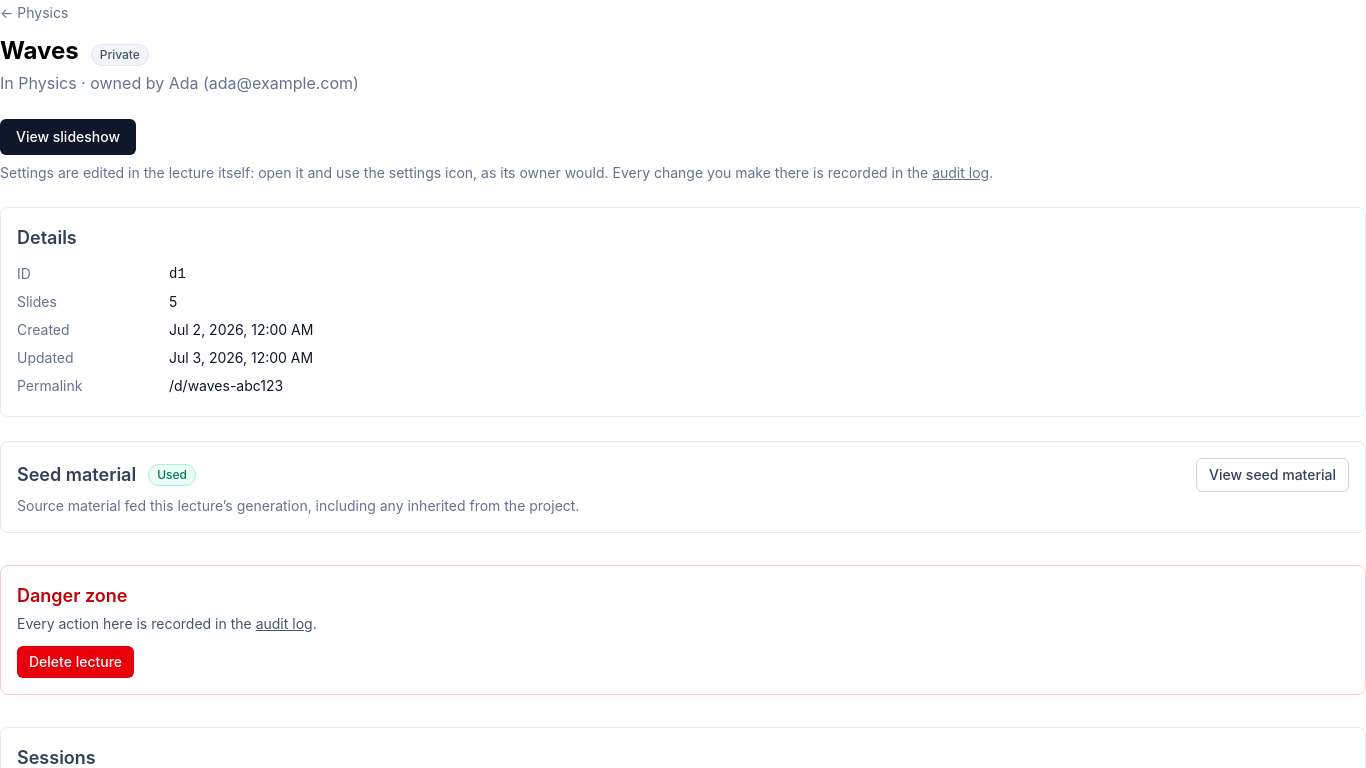
Test case: AdminDeckPage › marks seed material Used when only the project supplies it
Expected: the heading "Waves" is shown, [0,35,79,67]
Expected: the text "Used" is shown, [148,464,196,486]
Click the button "View seed material" at (1273, 475), box [1196,458,1349,492]
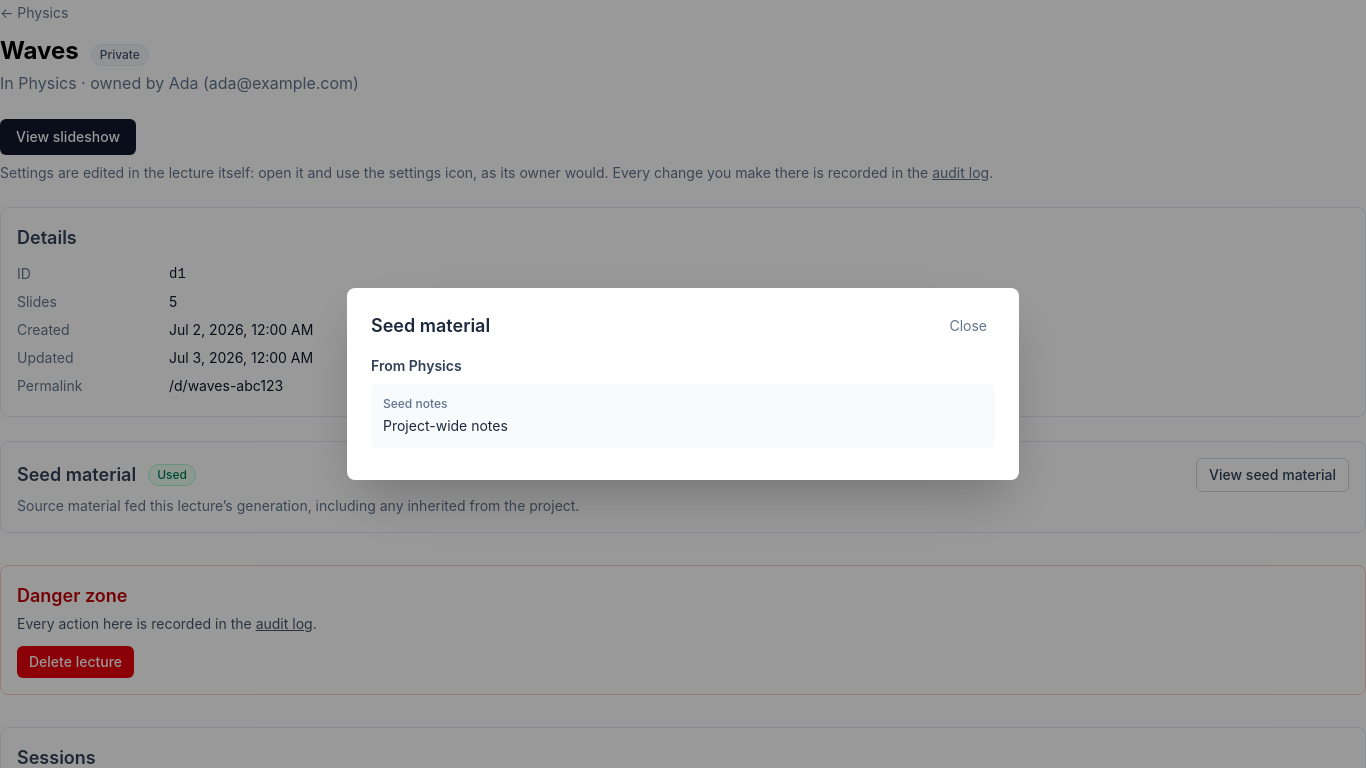
Now the heading "From Physics" is shown, box [371,357,462,374]
Now the text "Project-wide notes" is shown, box [383,417,508,434]
